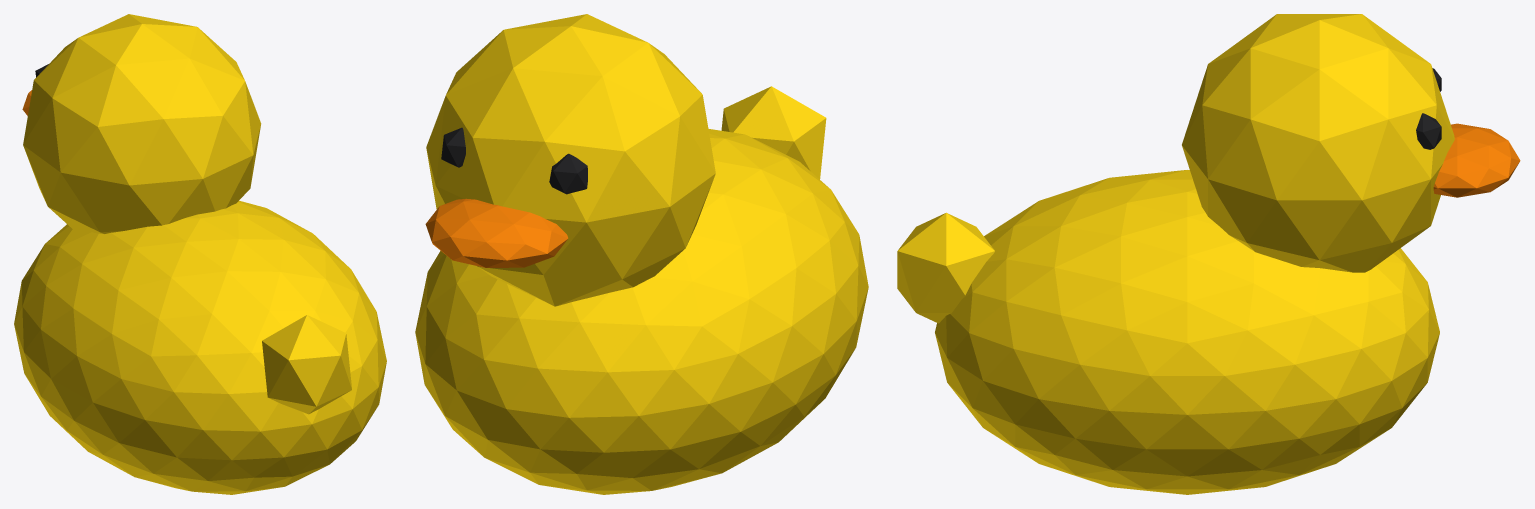
Rendered from hm_rubber_duck.glb.
The picture shows the model from 3 angles, left to right: view 1: azimuth 30°, elevation 25°; view 2: azimuth 150°, elevation 25°; view 3: azimuth 270°, elevation 25°; orthographic projection. The views are drawn at different scales.
Parts seen in each view (by area): view 1: Icosphere, Icosphere.001, Icosphere.005; view 2: Icosphere, Icosphere.001, Icosphere.002, Icosphere.005, Icosphere.003, Icosphere.004; view 3: Icosphere, Icosphere.001, Icosphere.005, Icosphere.002, Icosphere.004.
Part boxes in pixels (left/top/right/bottom): Icosphere: left=14, top=200, right=386, bottom=494; Icosphere.001: left=23, top=14, right=261, bottom=233; Icosphere.005: left=262, top=315, right=351, bottom=414; Icosphere: left=415, top=128, right=868, bottom=494; Icosphere.001: left=426, top=14, right=715, bottom=306; Icosphere.002: left=425, top=198, right=568, bottom=267; Icosphere.005: left=721, top=86, right=826, bottom=179; Icosphere.003: left=549, top=153, right=587, bottom=194; Icosphere.004: left=441, top=127, right=465, bottom=167; Icosphere: left=935, top=170, right=1439, bottom=494; Icosphere.001: left=1182, top=14, right=1454, bottom=272; Icosphere.005: left=897, top=212, right=994, bottom=323; Icosphere.002: left=1433, top=123, right=1520, bottom=197; Icosphere.004: left=1416, top=113, right=1441, bottom=149.
Bounding box in the file's own units: 6.8 × 8.7 × 10.85.
